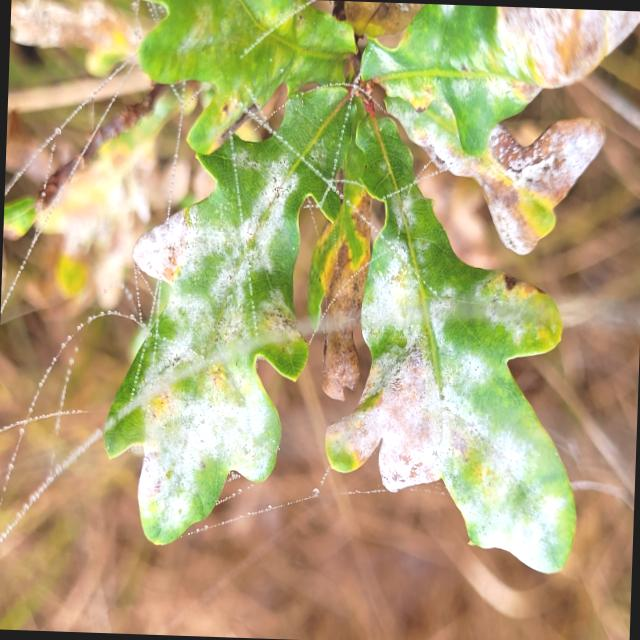powdery_mildew: (325, 118, 575, 572), (104, 87, 350, 543)
